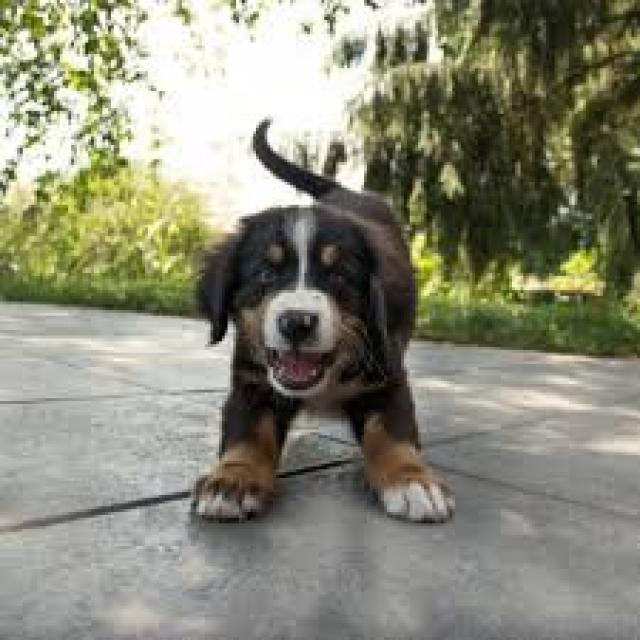Dog: (158, 110, 465, 531)
